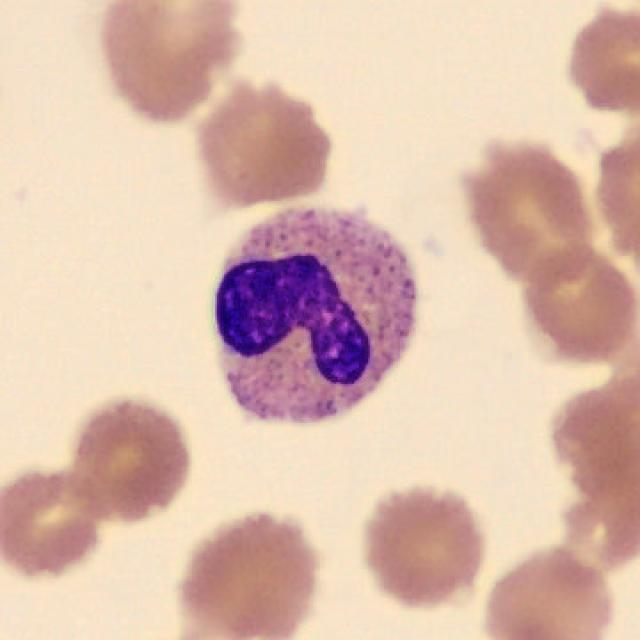Bastonete: (206, 197, 418, 425)
